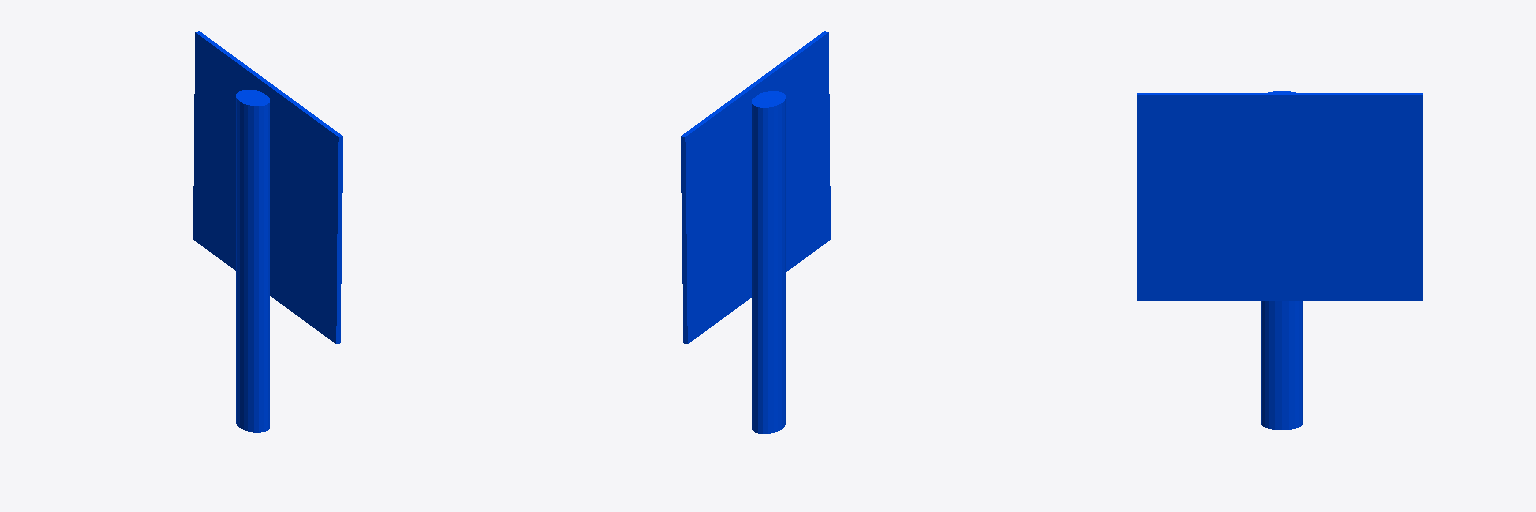
File: Flag.obj
3 views of the same model, side by side, from view 1: azimuth 30°, elevation 25°; view 2: azimuth 150°, elevation 25°; view 3: azimuth 270°, elevation 25° (orthographic).
Visible parts, largest first — view 1: polySurface1; view 2: polySurface1; view 3: polySurface1.
Part boxes in pixels (left/top/right/bottom): polySurface1: left=193, top=31, right=342, bottom=432; polySurface1: left=681, top=31, right=830, bottom=433; polySurface1: left=1137, top=91, right=1422, bottom=429.
Bounding box in the file's own units: 0.3168 × 3.31 × 2.55.